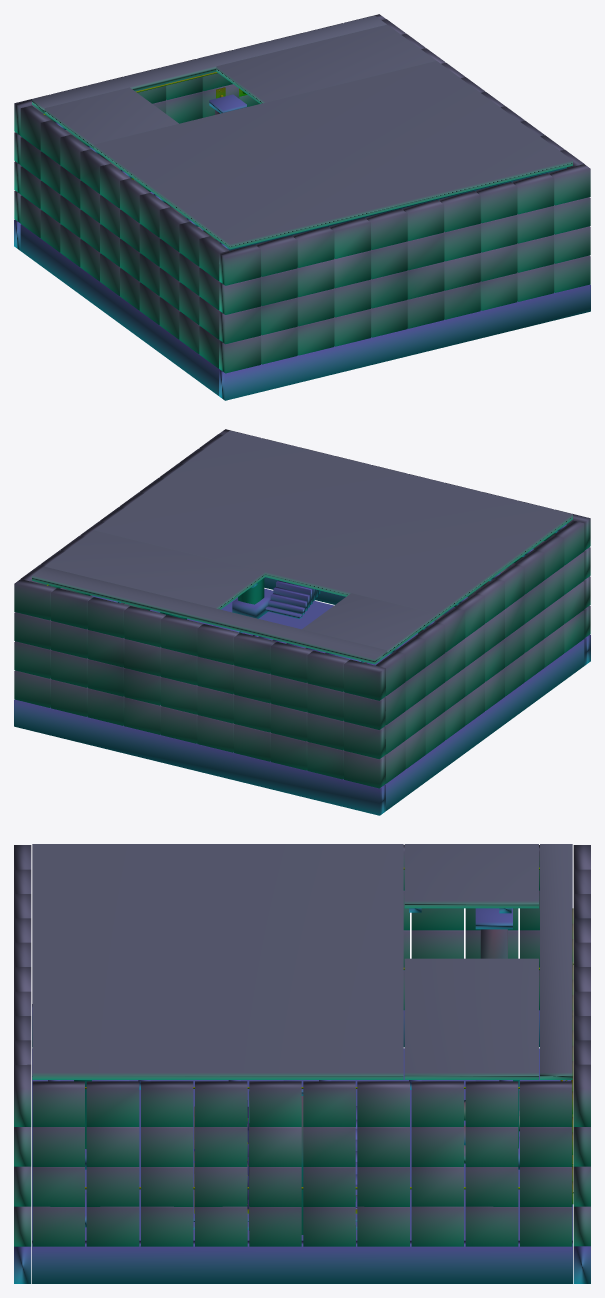
Rendered from engine_hall.glb.
3 renders of one model, top to bottom at view 1: azimuth 30°, elevation 25°; view 2: azimuth 150°, elevation 25°; view 3: azimuth 270°, elevation 25°, orthographic. The views are drawn at different scales.
Parts seen in each view (by area): view 1: engine_hall; view 2: engine_hall; view 3: engine_hall.
Boxes of the visible parts, x1=… form: engine_hall: x1=14, y1=14, x2=590, y2=400; engine_hall: x1=14, y1=429, x2=590, y2=815; engine_hall: x1=14, y1=844, x2=590, y2=1283.
Size of what is drawn, in the model's own units: 25.57 by 10.26 by 25.57.
